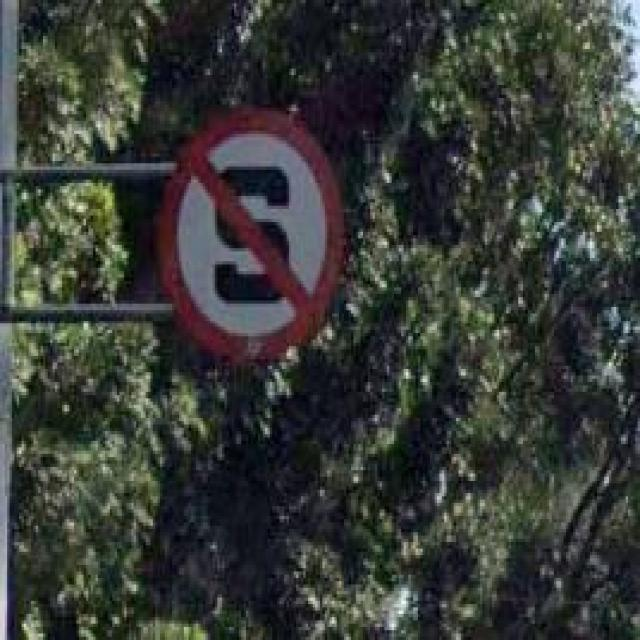traffic sign: (163, 111, 347, 359)
